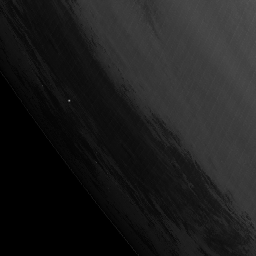Target: (66, 98, 72, 103)
